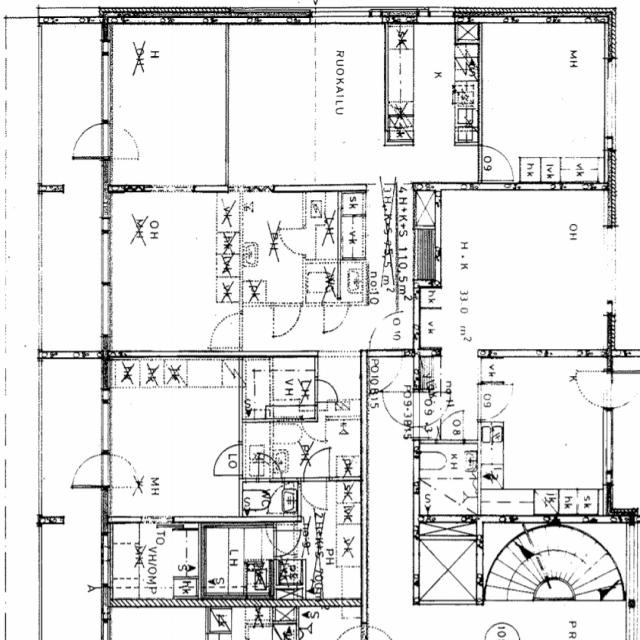door: (70, 123, 110, 158), (369, 314, 402, 356), (369, 350, 402, 392), (71, 454, 110, 486), (478, 146, 514, 180), (209, 444, 242, 476), (304, 450, 329, 481), (273, 530, 300, 556), (258, 453, 280, 481), (314, 379, 338, 402)
